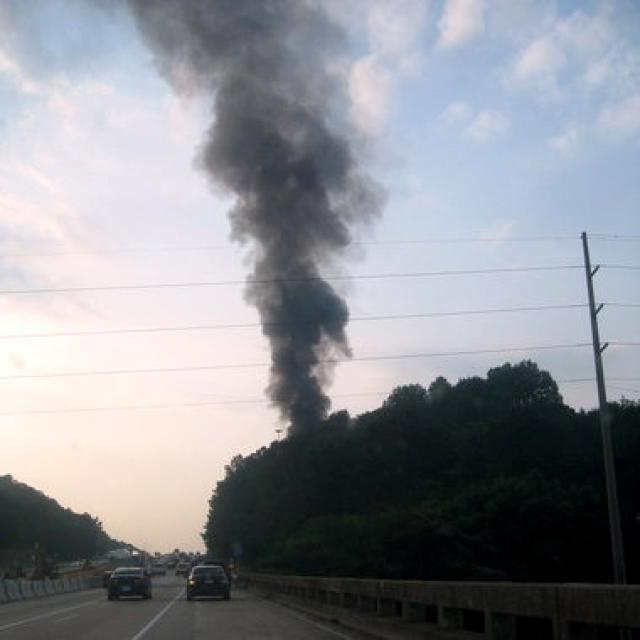Smoke: (149, 0, 372, 430)
